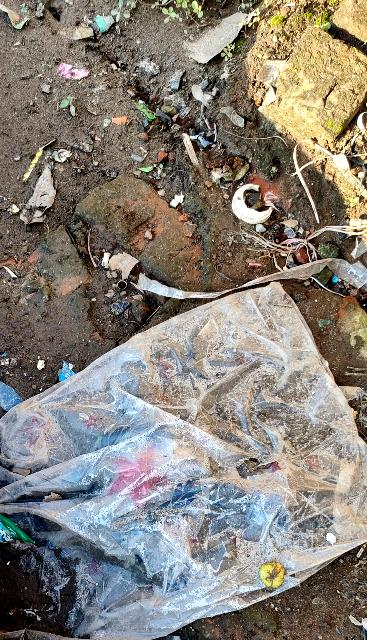polythene: (0, 279, 367, 640)
